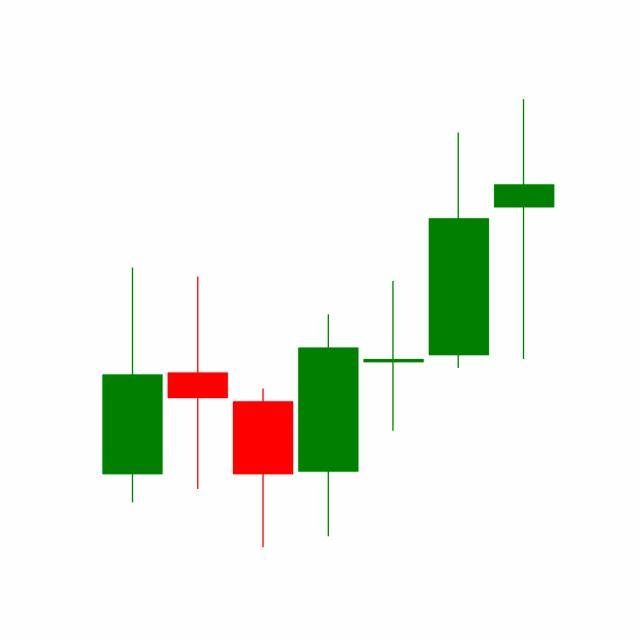Hikkake Pattern: (165, 129, 492, 549)
